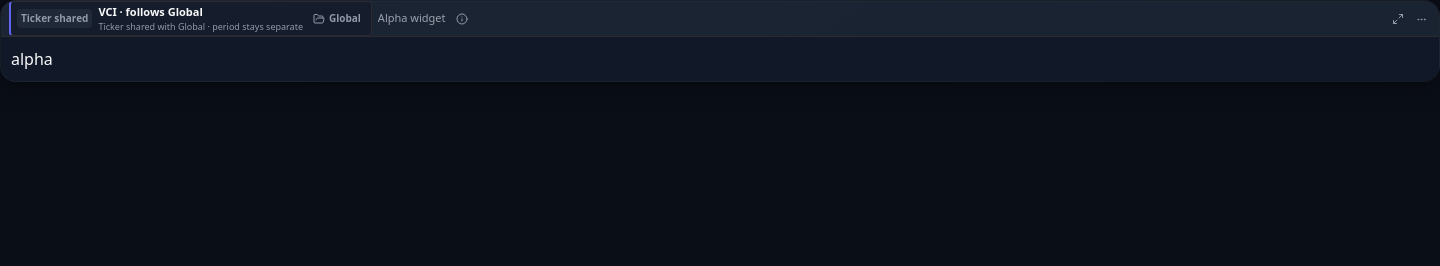
Test case: WidgetGroupSelector ticker scope › starts following its group and adopts the new ticker when the group changes
Check: the text with test id "ticker-scope-badge" reads "Ticker shared", box [21,11,88,25]
Check: the text with test id "ticker-scope-badge" does not show "Ticker local", box [17,9,92,28]
Click the button with aria-label "Ticker group: " at (337, 18), box [309,9,365,28]
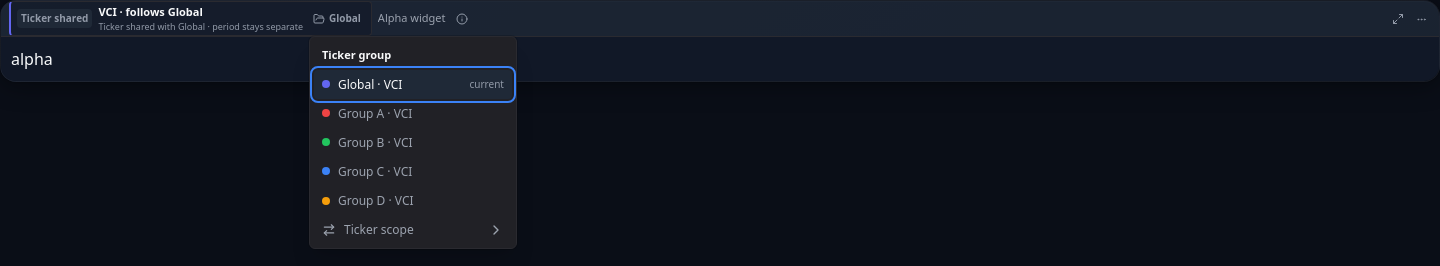
Click the menu item "Global · VCI current" at (413, 84), box [314,70,512,99]
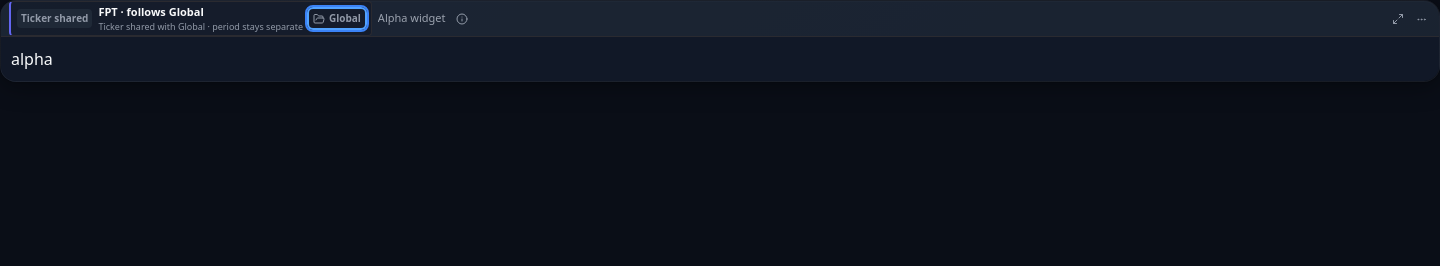
Check: the text with test id "ticker-scope-badge" reads "Ticker shared", box [21,11,88,25]
Check: the element titled "Global · FPT" is shown, box [9,1,372,36]
Click the button with aria-label "Ticker group: " at (337, 18), box [309,9,365,28]
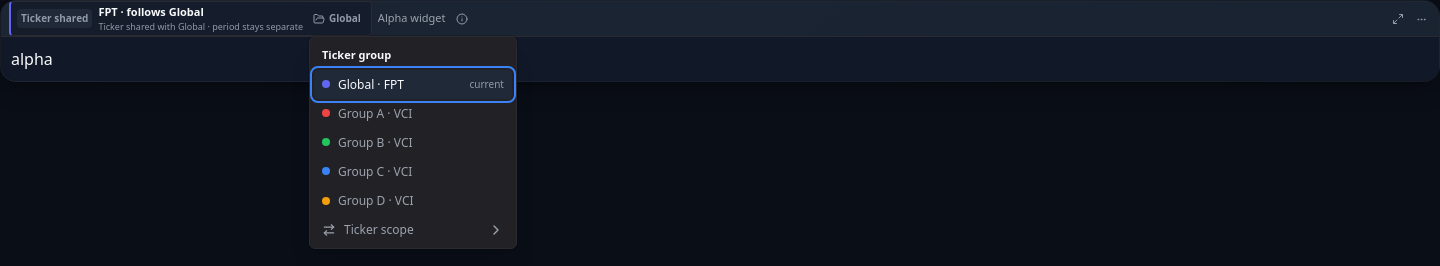
Click the menu item "Group A · VCI" at (367, 113), box [322,105,412,122]
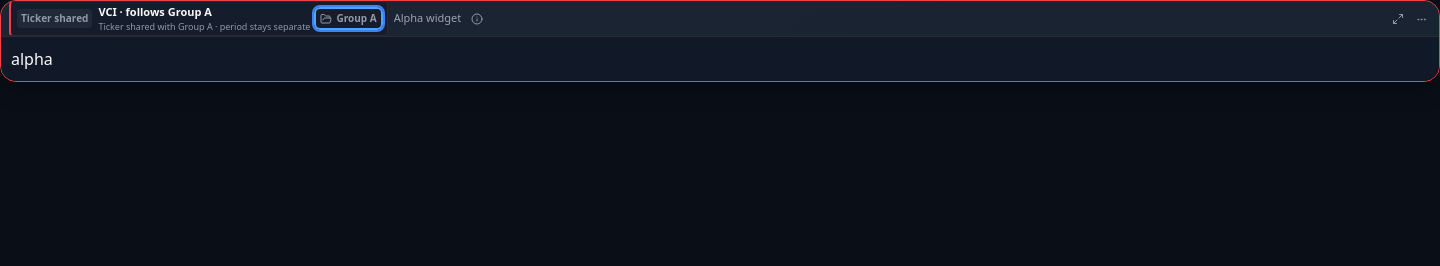
Check: the text with test id "ticker-scope-badge" reads "Ticker shared", box [21,11,88,25]
Check: the button with aria-label "Ticker group: Group A" is shown, box [316,9,381,28]
